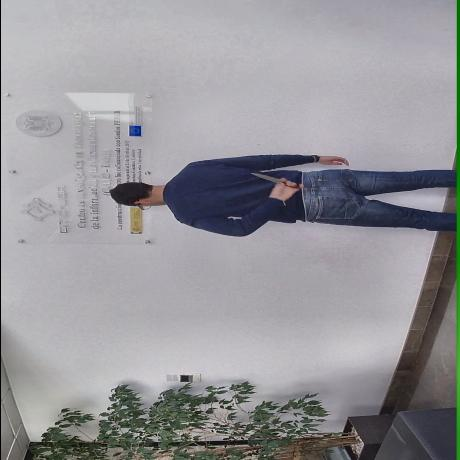1: (106, 152, 460, 235)
weapon: (250, 172, 299, 188)
